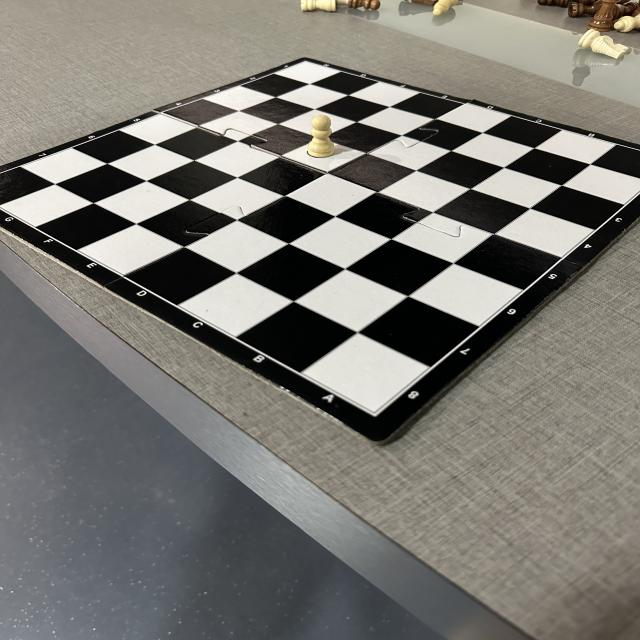Black-Pawn: (347, 0, 380, 10), (537, 0, 568, 8)
Black-Rook: (568, 2, 598, 18)
White-Bishop: (432, 0, 459, 17)
White-Knight: (577, 29, 629, 59)
White-Pawn: (307, 114, 335, 158)
White-Queen: (614, 15, 640, 32)
White-Rook: (300, 0, 339, 13)
